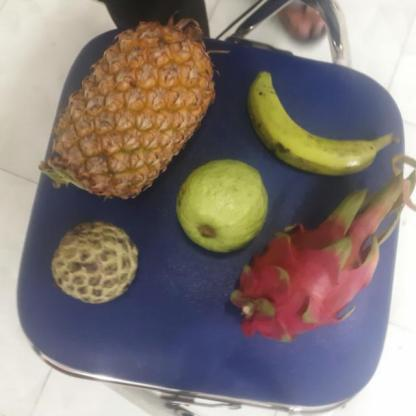annona: (52, 223, 142, 303)
guava: (176, 163, 272, 254)
pineapple: (51, 22, 217, 196)
pitaya: (231, 218, 377, 343)
